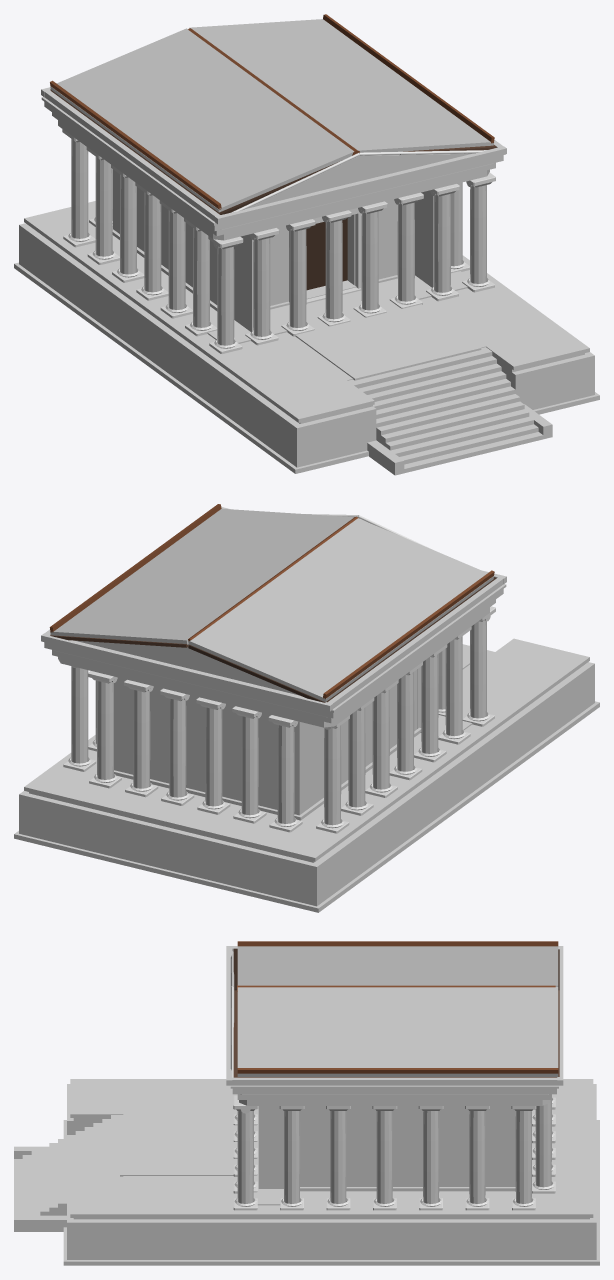
File: Temple_UV.fbx
3 renders of one model, top to bottom at view 1: azimuth 30°, elevation 25°; view 2: azimuth 150°, elevation 25°; view 3: azimuth 270°, elevation 25°, orthographic. The views are drawn at different scales.
Visible parts, largest first — view 1: TEMP_Temple_AtlasBake.049, TEMP_Temple_AtlasBake.009, TEMP_Temple_AtlasBake.003, TEMP_Temple_AtlasBake.050, TEMP_Temple_AtlasBake.095, TEMP_Temple_AtlasBake.017, TEMP_Temple_AtlasBake.007, TEMP_Temple_AtlasBake.057, TEMP_Temple_AtlasBake.029, TEMP_Temple_AtlasBake.033, TEMP_Temple_AtlasBake.039, TEMP_Temple_AtlasBake.543 (+38 smaller); view 2: TEMP_Temple_AtlasBake.049, TEMP_Temple_AtlasBake.003, TEMP_Temple_AtlasBake.050, TEMP_Temple_AtlasBake.009, TEMP_Temple_AtlasBake.017, TEMP_Temple_AtlasBake.007, TEMP_Temple_AtlasBake.029, TEMP_Temple_AtlasBake.033, TEMP_Temple_AtlasBake.041, TEMP_Temple_AtlasBake.067, TEMP_Temple_AtlasBake.031, TEMP_Temple_AtlasBake.043 (+22 smaller); view 3: TEMP_Temple_AtlasBake.050, TEMP_Temple_AtlasBake.009, TEMP_Temple_AtlasBake.003, TEMP_Temple_AtlasBake.049, TEMP_Temple_AtlasBake.017, TEMP_Temple_AtlasBake.095, TEMP_Temple_AtlasBake.007, TEMP_Temple_AtlasBake.045, TEMP_Temple_AtlasBake.033, TEMP_Temple_AtlasBake.547, TEMP_Temple_AtlasBake.055, TEMP_Temple_AtlasBake.053 (+30 smaller).
Boxes of the visible parts, x1=… form: TEMP_Temple_AtlasBake.049: x1=50, y1=28, x2=354, y2=212; TEMP_Temple_AtlasBake.009: x1=24, y1=201, x2=589, y2=422; TEMP_Temple_AtlasBake.003: x1=19, y1=223, x2=594, y2=467; TEMP_Temple_AtlasBake.050: x1=190, y1=19, x2=494, y2=152; TEMP_Temple_AtlasBake.095: x1=295, y1=304, x2=481, y2=380; TEMP_Temple_AtlasBake.017: x1=113, y1=169, x2=397, y2=305; TEMP_Temple_AtlasBake.007: x1=14, y1=262, x2=599, y2=473; TEMP_Temple_AtlasBake.057: x1=247, y1=153, x2=471, y2=208; TEMP_Temple_AtlasBake.029: x1=58, y1=120, x2=489, y2=240; TEMP_Temple_AtlasBake.033: x1=44, y1=102, x2=503, y2=231; TEMP_Temple_AtlasBake.039: x1=215, y1=146, x2=506, y2=224; TEMP_Temple_AtlasBake.543: x1=207, y1=271, x2=469, y2=343; TEMP_Temple_AtlasBake.049: x1=189, y1=518, x2=493, y2=702; TEMP_Temple_AtlasBake.003: x1=19, y1=662, x2=594, y2=906; TEMP_Temple_AtlasBake.050: x1=50, y1=508, x2=353, y2=644; TEMP_Temple_AtlasBake.009: x1=24, y1=638, x2=589, y2=861; TEMP_Temple_AtlasBake.017: x1=114, y1=669, x2=417, y2=815; TEMP_Temple_AtlasBake.007: x1=14, y1=701, x2=599, y2=912; TEMP_Temple_AtlasBake.029: x1=58, y1=607, x2=489, y2=727; TEMP_Temple_AtlasBake.033: x1=44, y1=589, x2=503, y2=718; TEMP_Temple_AtlasBake.041: x1=41, y1=633, x2=332, y2=711; TEMP_Temple_AtlasBake.067: x1=75, y1=640, x2=299, y2=695; TEMP_Temple_AtlasBake.031: x1=52, y1=599, x2=495, y2=723; TEMP_Temple_AtlasBake.043: x1=328, y1=577, x2=503, y2=708; TEMP_Temple_AtlasBake.050: x1=237, y1=987, x2=558, y2=1076; TEMP_Temple_AtlasBake.009: x1=70, y1=1079, x2=593, y2=1217; TEMP_Temple_AtlasBake.003: x1=67, y1=1084, x2=596, y2=1259; TEMP_Temple_AtlasBake.049: x1=237, y1=946, x2=558, y2=986; TEMP_Temple_AtlasBake.017: x1=300, y1=1106, x2=515, y2=1186; TEMP_Temple_AtlasBake.095: x1=120, y1=1116, x2=237, y2=1176; TEMP_Temple_AtlasBake.007: x1=63, y1=1120, x2=599, y2=1265; TEMP_Temple_AtlasBake.045: x1=229, y1=1077, x2=560, y2=1085; TEMP_Temple_AtlasBake.033: x1=232, y1=1088, x2=556, y2=1094; TEMP_Temple_AtlasBake.547: x1=258, y1=1106, x2=283, y2=1188; TEMP_Temple_AtlasBake.055: x1=237, y1=1068, x2=558, y2=1073; TEMP_Temple_AtlasBake.053: x1=237, y1=941, x2=558, y2=946.
Bounding box in the file's own units: 2530 × 1747 × 4425.
